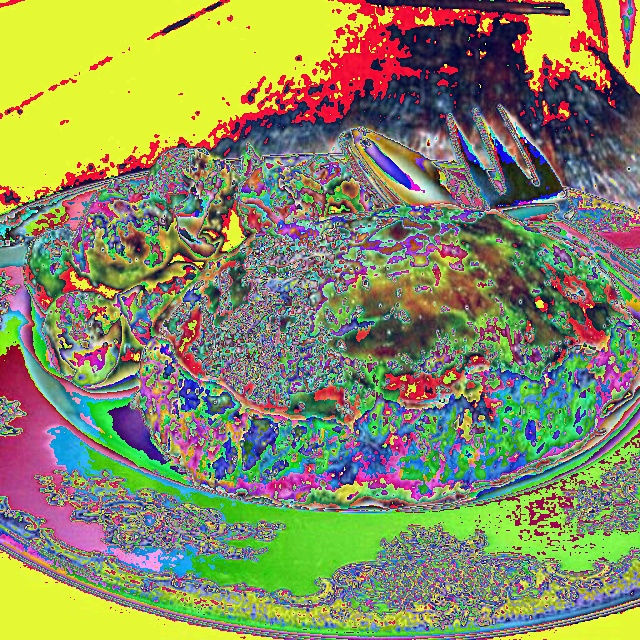background: (23, 139, 639, 509)
